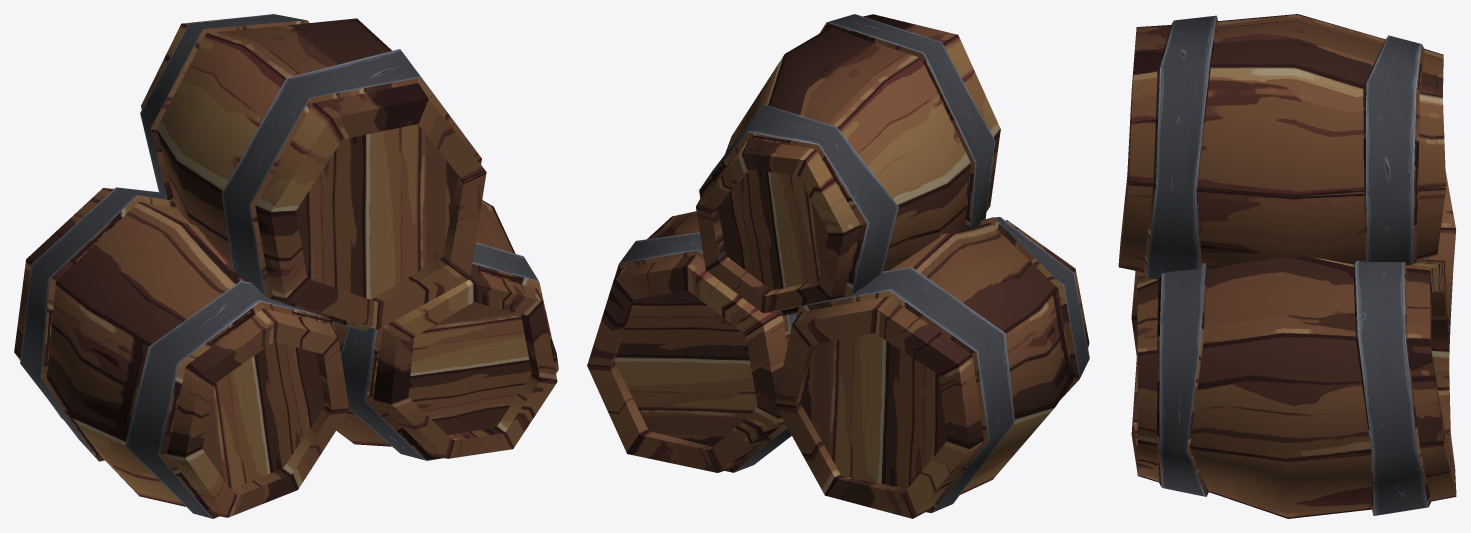
File: FIG0110002.FBX
The picture shows the model from 3 angles, left to right: view 1: azimuth 30°, elevation 25°; view 2: azimuth 150°, elevation 25°; view 3: azimuth 270°, elevation 25°; orthographic projection. The views are drawn at different scales.
Visible parts, largest first — view 1: smFIG0110002; view 2: smFIG0110002; view 3: smFIG0110002.
Part boxes in pixels (box(x1,y1,x2,y2)): smFIG0110002: box(14, 14, 558, 518); smFIG0110002: box(587, 14, 1089, 518); smFIG0110002: box(1118, 14, 1456, 518).
Size of the model in its own units: 1.33 by 1.18 by 0.8828.
Materials: 2 (2 with a texture image).
